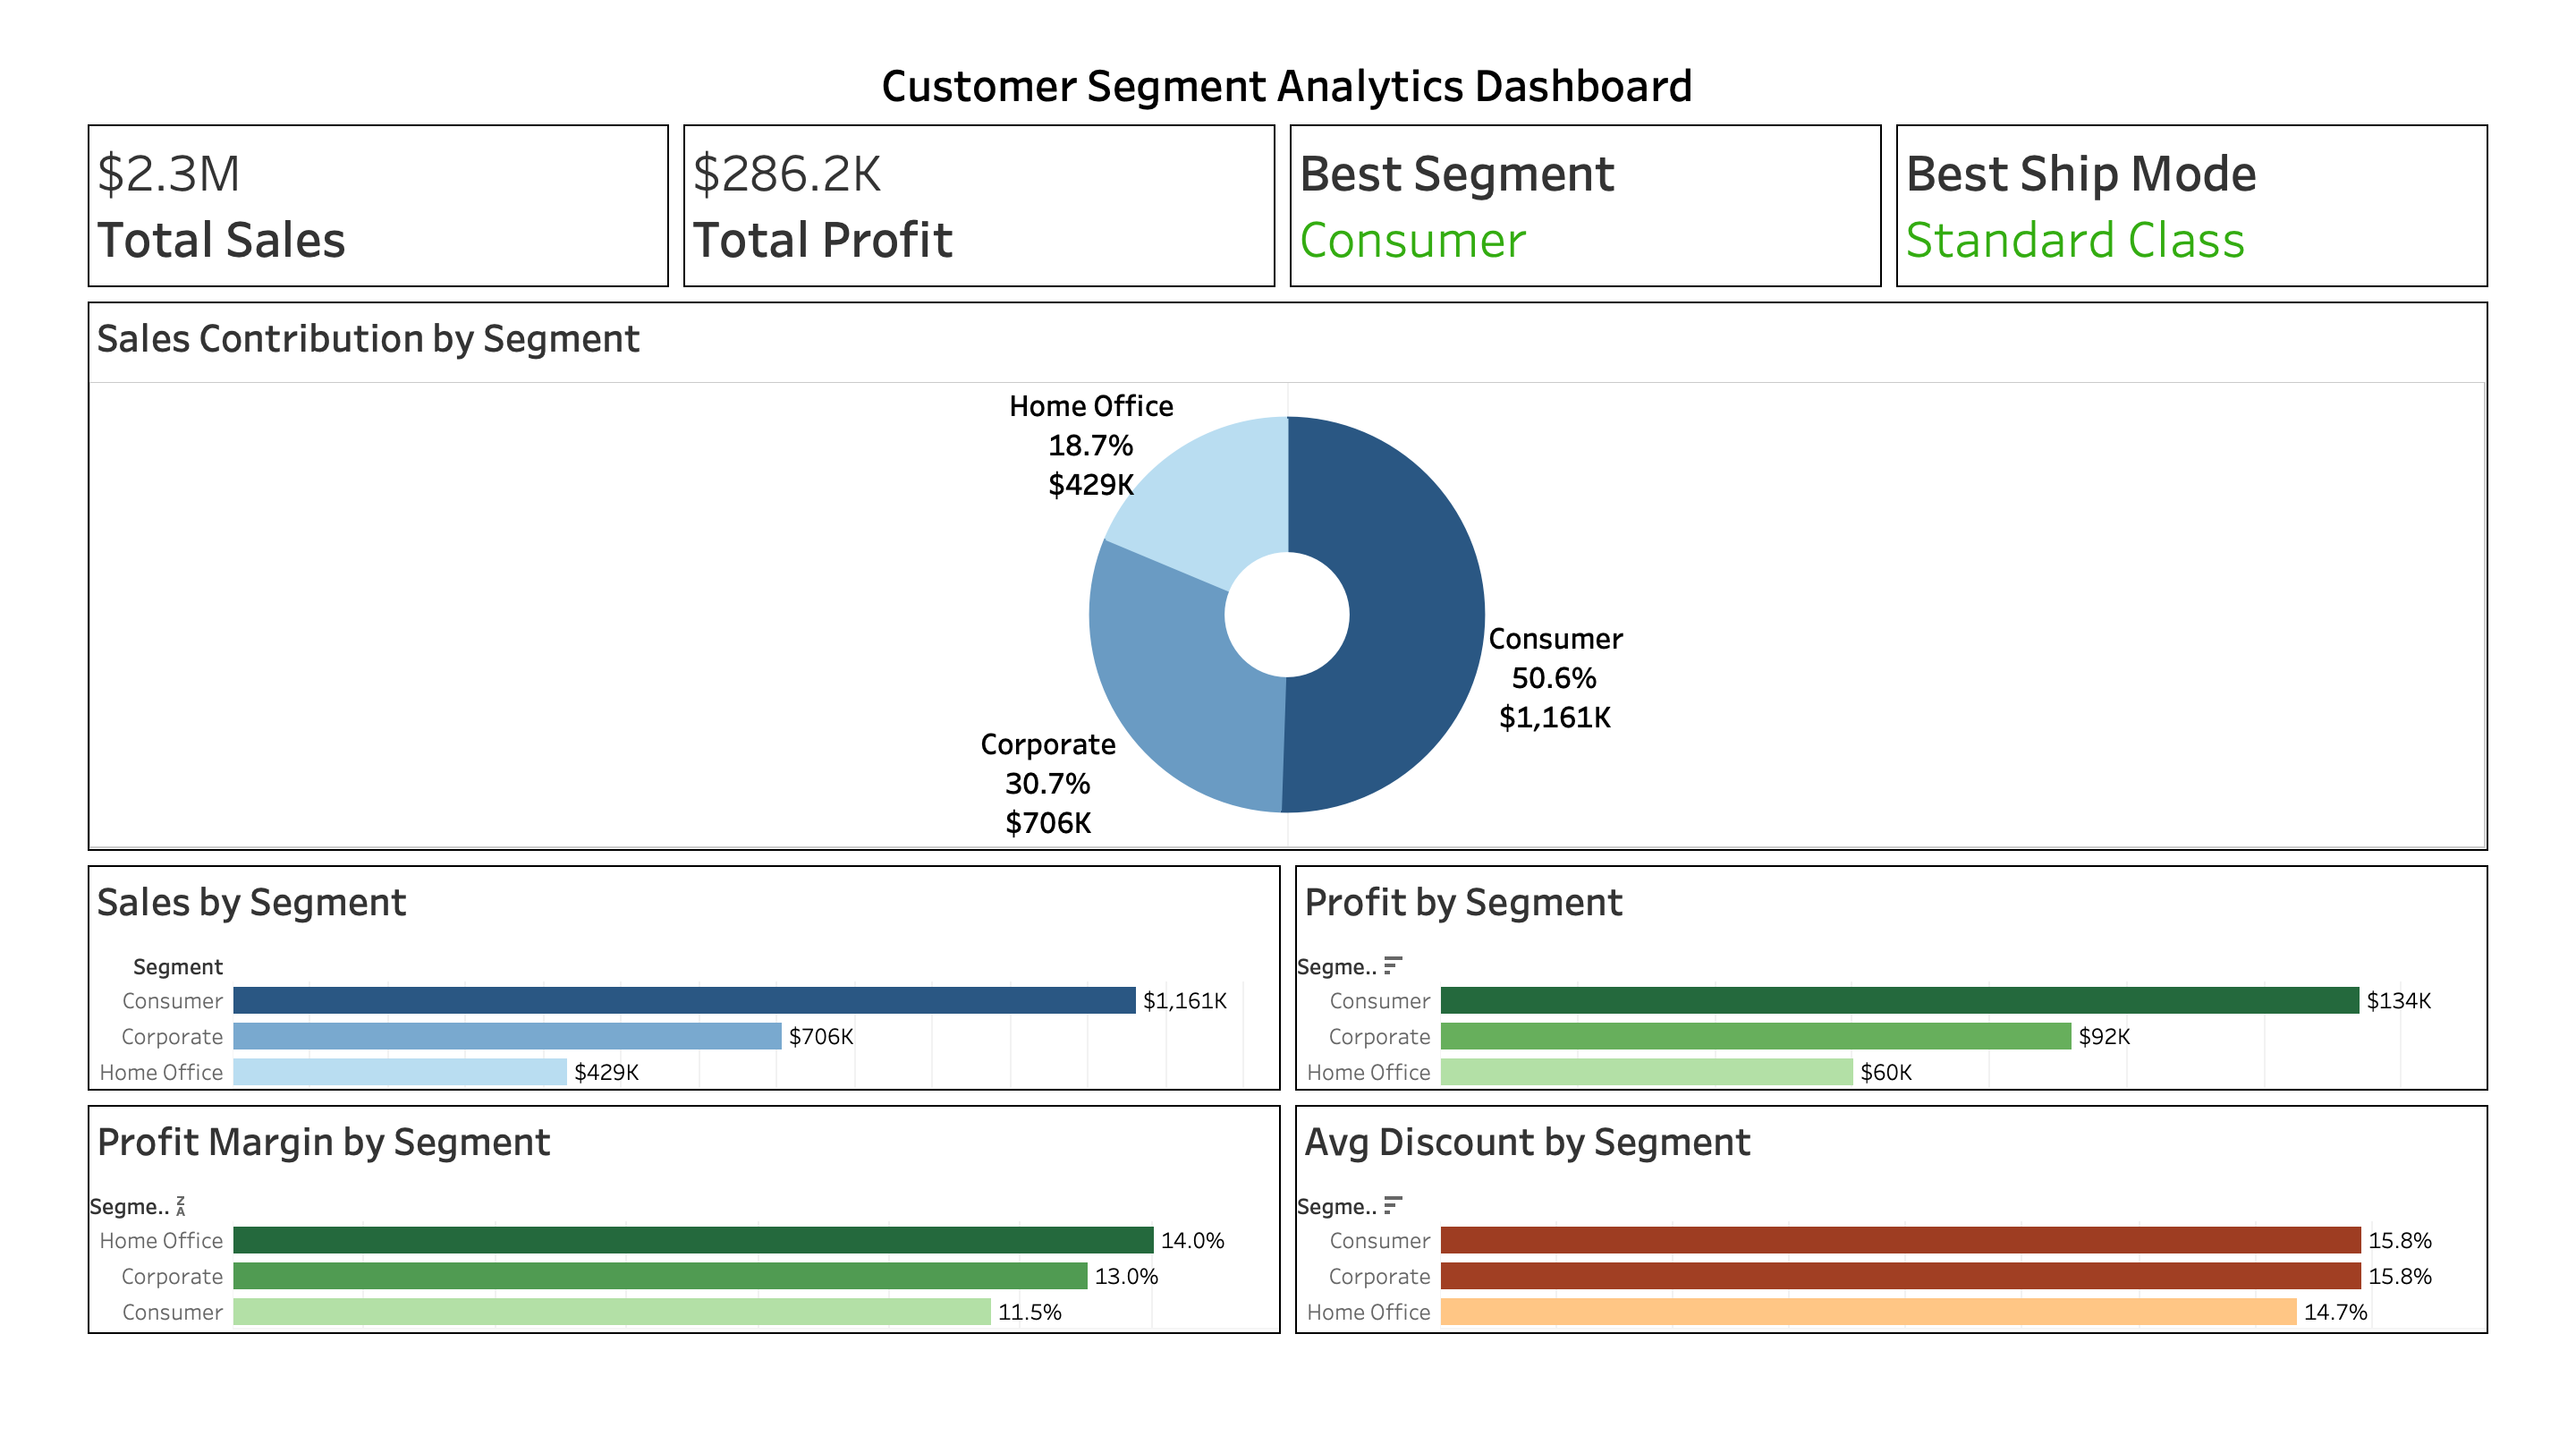

The page's visual inventory and layout, read from the dashboard file:
{"tool":"tableau","page":{"name":"Customer Segment Analytics Dashboard","canvas":[1366,768],"ordinal":0},"visuals":[{"type":"text","box":[8,8,1350,37]},{"type":"worksheet","title":"KPI - Total Sales","mark":"Automatic","box":[8,45,332.9,99]},{"type":"worksheet","title":"KPI - Total Profit","mark":"Automatic","box":[341,45,339,99]},{"type":"worksheet","title":"KPI Best Segment","mark":"Automatic","rows":["Segment"],"box":[680,45,339,99]},{"type":"worksheet","title":"KPI Best Ship Mode","mark":"Automatic","rows":["Ship Mode"],"box":[1019,45,339,99]},{"type":"worksheet","title":"Sales Contribution by Segment","mark":"Pie","cols":["Calculation_2353652078129160","Calculation_2353652078129160"],"box":[8,144,1350,315]},{"type":"worksheet","title":"Sales by Segment","mark":"Automatic","rows":["Segment"],"cols":["Sales"],"box":[8,459,675,134]},{"type":"worksheet","title":"Profit by Segment","mark":"Automatic","rows":["Segment"],"cols":["Profit"],"box":[683,459,675,134]},{"type":"worksheet","title":"Profit Margin by Segment","mark":"Automatic","rows":["Segment"],"cols":["Calculation_2353651724660736"],"box":[8,593,675,136]},{"type":"worksheet","title":"Avg Discount by Segment","mark":"Automatic","rows":["Segment"],"cols":["Discount"],"box":[683,593,675,136]}]}

Visuals, with their boxes in screenshot pixels (x1, y1, x2, y2), scaled from the page's 1366x768 canvas onto the 2576x1436 screenshot:
text: [x1=15, y1=15, x2=2561, y2=84]
"KPI - Total Sales" worksheet: [x1=15, y1=84, x2=643, y2=269]
"KPI - Total Profit" worksheet: [x1=643, y1=84, x2=1283, y2=269]
"KPI Best Segment" worksheet: [x1=1283, y1=84, x2=1921, y2=269]
"KPI Best Ship Mode" worksheet: [x1=1921, y1=84, x2=2561, y2=269]
"Sales Contribution by Segment" worksheet (Pie marks): [x1=15, y1=269, x2=2561, y2=858]
"Sales by Segment" worksheet: [x1=15, y1=858, x2=1288, y2=1109]
"Profit by Segment" worksheet: [x1=1288, y1=858, x2=2561, y2=1109]
"Profit Margin by Segment" worksheet: [x1=15, y1=1109, x2=1288, y2=1363]
"Avg Discount by Segment" worksheet: [x1=1288, y1=1109, x2=2561, y2=1363]
